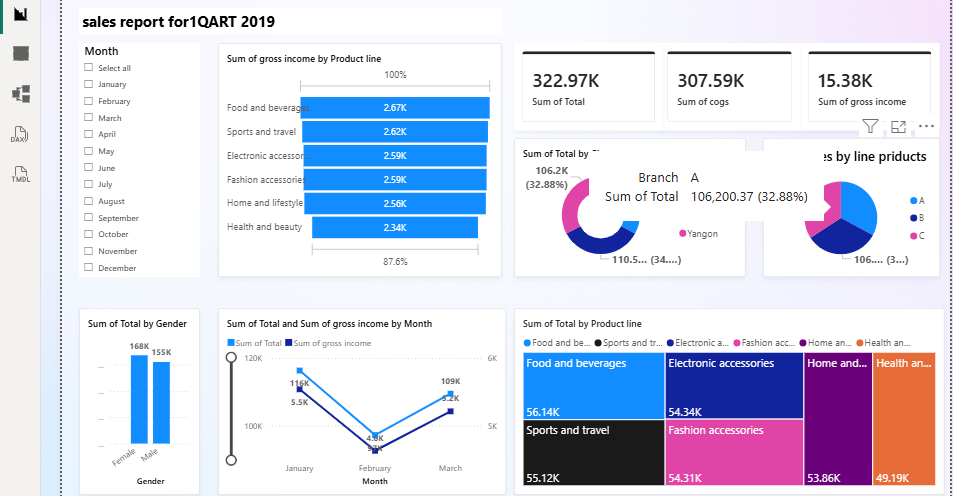

The dashboard page shown, as its layout file describes it:
{"tool":"powerbi","page":{"name":"Page 1","canvas":[1280,720],"ordinal":0},"visuals":[{"type":"cardVisual","fields":{"Data":["Sum(supermarket_sales - Sheet1 (2).gross income)"]},"box":[1063.1,64.6,201.5,126.2],"z":0},{"type":"cardVisual","fields":{"Data":["Sum(supermarket_sales - Sheet1 (2).cogs)"]},"box":[860,64.6,203.1,126.2],"z":1000},{"type":"cardVisual","fields":{"Data":["Sum(supermarket_sales - Sheet1 (2).Total)"]},"box":[650.8,64.6,215.4,126.2],"z":2000},{"type":"pieChart","title":" Total sales by line priducts","fields":{"Y":["Sum(supermarket_sales - Sheet1 (2).Total)"],"Series":["supermarket_sales - Sheet1 (2).Branch"]},"box":[1009.2,201.5,255.4,200],"z":3000},{"type":"donutChart","fields":{"Y":["Sum(supermarket_sales - Sheet1 (2).Total)"],"Series":["supermarket_sales - Sheet1 (2).City"]},"box":[650.8,201.5,333.8,200],"z":4000},{"type":"treemap","fields":{"Group":["supermarket_sales - Sheet1 (2).Product line"],"Values":["Sum(supermarket_sales - Sheet1 (2).Total)"]},"box":[650.8,446.2,620,269.2],"z":5000},{"type":"clusteredColumnChart","fields":{"Category":["supermarket_sales - Sheet1 (2).Gender"],"Y":["Sum(supermarket_sales - Sheet1 (2).Total)"]},"box":[24.6,446.2,173.8,269.2],"z":6000},{"type":"slicer","fields":{"Values":["supermarket_sales - Sheet1 (2).Date.Variation.Date Hierarchy.Month"]},"box":[24.6,64.6,173.8,336.9],"z":7000},{"type":"lineChart","fields":{"Category":["supermarket_sales - Sheet1 (2).Date.Variation.Date Hierarchy.Month"],"Y":["Sum(supermarket_sales - Sheet1 (2).Total)"],"Y2":["Sum(supermarket_sales - Sheet1 (2).gross income)"]},"box":[224.6,446.2,415.4,269.2],"z":8000},{"type":"funnel","fields":{"Y":["Sum(supermarket_sales - Sheet1 (2).gross income)"],"Category":["supermarket_sales - Sheet1 (2).Product line"]},"box":[224.6,64.6,409.2,336.9],"z":9000},{"type":"textbox","box":[24.6,13.8,609.2,38.5],"z":10000}]}

Visuals, with their boxes on the page's 1280x720 design canvas (x1, y1, x2, y2). These are canvas units, not pixel positions in the 953x496 screenshot, which may show the page scaled, cropped or inside an application window:
cardVisual - Sum(supermarket_sales - Sheet1 (2).gross income): {"x1": 1063, "y1": 65, "x2": 1265, "y2": 191}
cardVisual - Sum(supermarket_sales - Sheet1 (2).cogs): {"x1": 860, "y1": 65, "x2": 1063, "y2": 191}
cardVisual - Sum(supermarket_sales - Sheet1 (2).Total): {"x1": 651, "y1": 65, "x2": 866, "y2": 191}
" Total sales by line priducts" pieChart: {"x1": 1009, "y1": 202, "x2": 1265, "y2": 402}
donutChart - Sum(supermarket_sales - Sheet1 (2).Total) x supermarket_sales - Sheet1 (2).City: {"x1": 651, "y1": 202, "x2": 985, "y2": 402}
treemap - supermarket_sales - Sheet1 (2).Product line x Sum(supermarket_sales - Sheet1 (2).Total): {"x1": 651, "y1": 446, "x2": 1271, "y2": 715}
clusteredColumnChart - supermarket_sales - Sheet1 (2).Gender x Sum(supermarket_sales - Sheet1 (2).Total): {"x1": 25, "y1": 446, "x2": 198, "y2": 715}
slicer - supermarket_sales - Sheet1 (2).Date.Variation.Date Hierarchy.Month: {"x1": 25, "y1": 65, "x2": 198, "y2": 402}
lineChart - supermarket_sales - Sheet1 (2).Date.Variation.Date Hierarchy.Month x Sum(supermarket_sales - Sheet1 (2).Total): {"x1": 225, "y1": 446, "x2": 640, "y2": 715}
funnel - Sum(supermarket_sales - Sheet1 (2).gross income) x supermarket_sales - Sheet1 (2).Product line: {"x1": 225, "y1": 65, "x2": 634, "y2": 402}
textbox: {"x1": 25, "y1": 14, "x2": 634, "y2": 52}
